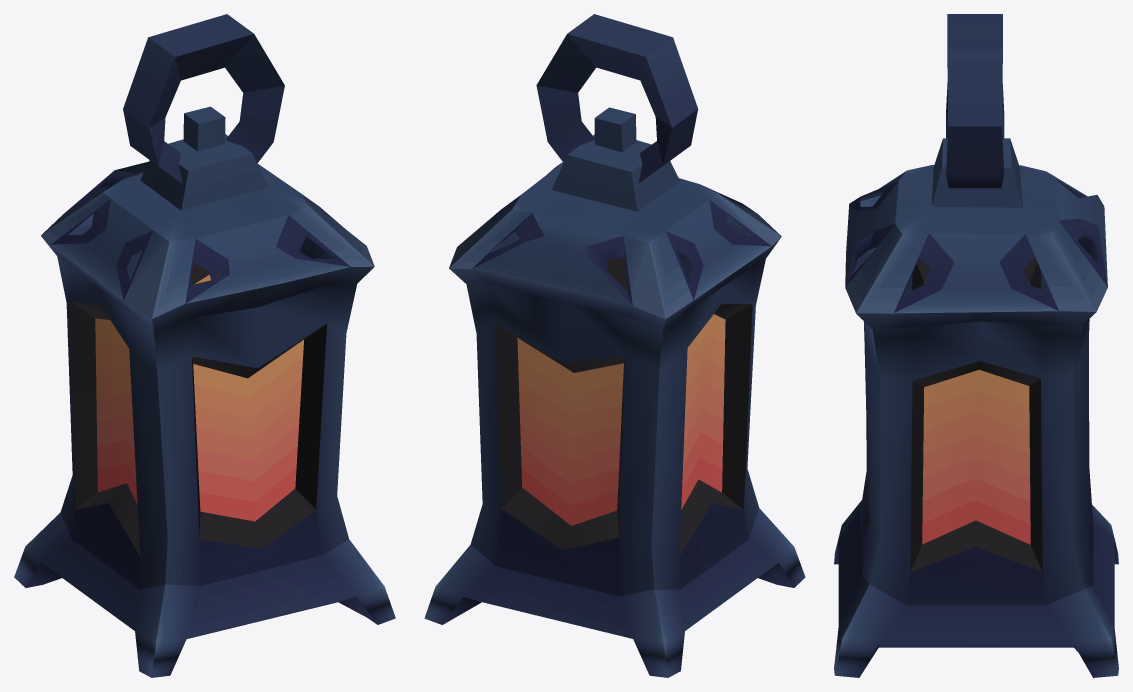
The model's file is Lantern_Square.fbx.
The picture shows the model from 3 angles, left to right: view 1: azimuth 30°, elevation 25°; view 2: azimuth 150°, elevation 25°; view 3: azimuth 270°, elevation 25°; orthographic projection. The views are drawn at different scales.
Visible parts, largest first — view 1: pCube11; view 2: pCube11; view 3: pCube11.
Boxes of the visible parts, left/top/right/bottom form: pCube11: left=14, top=14, right=395, bottom=677; pCube11: left=424, top=14, right=805, bottom=677; pCube11: left=834, top=14, right=1118, bottom=677.
Bounding box in the file's own units: 1.24 × 2.76 × 1.21.
